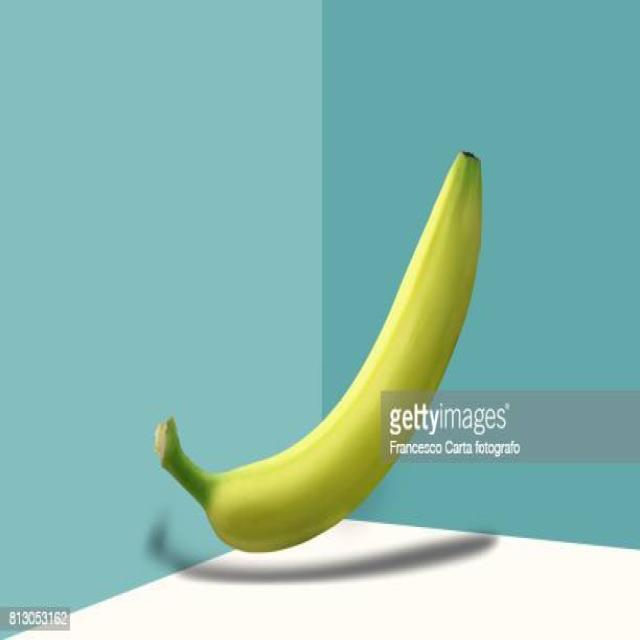non_orange: (154, 147, 487, 555)
